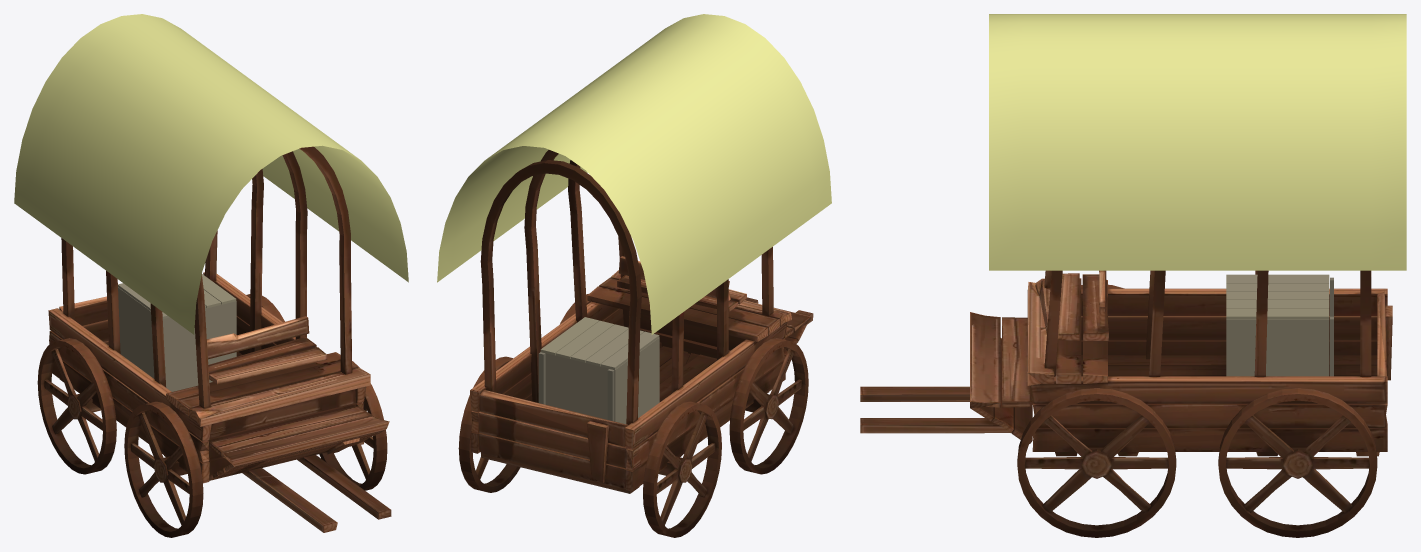
The model's file is astra_t05.glb.
3 renders of one model, left to right at view 1: azimuth 30°, elevation 25°; view 2: azimuth 150°, elevation 25°; view 3: azimuth 270°, elevation 25°, orthographic. The views are drawn at different scales.
Parts seen in each view (by area): view 1: replacement_canopy, slot_anchor_frame, slot_front_wheels, cargo_crate; view 2: replacement_canopy, slot_anchor_frame, slot_front_wheels, cargo_crate, wood_plank_3, wood_plank_4, wood_plank_2, wood_plank_0, wood_plank_1; view 3: replacement_canopy, slot_anchor_frame, slot_front_wheels, cargo_crate, wood_plank_4, wood_plank_0, wood_plank_3, wood_plank_1, wood_plank_2.
Part boxes in pixels (left/top/right/bottom): replacement_canopy: left=14, top=14, right=408, bottom=334; slot_anchor_frame: left=37, top=146, right=391, bottom=532; slot_front_wheels: left=124, top=361, right=387, bottom=537; cargo_crate: left=118, top=287, right=236, bottom=391; replacement_canopy: left=437, top=14, right=831, bottom=334; slot_anchor_frame: left=458, top=150, right=813, bottom=537; slot_front_wheels: left=560, top=294, right=808, bottom=474; cargo_crate: left=545, top=337, right=659, bottom=424; wood_plank_3: left=555, top=320, right=614, bottom=358; wood_plank_4: left=540, top=317, right=599, bottom=355; wood_plank_2: left=570, top=324, right=628, bottom=362; wood_plank_0: left=600, top=331, right=659, bottom=369; wood_plank_1: left=585, top=329, right=644, bottom=366; replacement_canopy: left=989, top=14, right=1406, bottom=270; slot_anchor_frame: left=860, top=270, right=1392, bottom=537; slot_front_wheels: left=1017, top=284, right=1176, bottom=537; cargo_crate: left=1226, top=319, right=1329, bottom=376; wood_plank_4: left=1226, top=308, right=1329, bottom=319; wood_plank_0: left=1226, top=274, right=1329, bottom=283; wood_plank_3: left=1226, top=300, right=1329, bottom=308; wood_plank_1: left=1226, top=283, right=1329, bottom=291; wood_plank_2: left=1226, top=291, right=1329, bottom=299.
Bounding box in the file's own units: 1.06 × 1.87 × 2.01.
10 materials, 1 textured.
